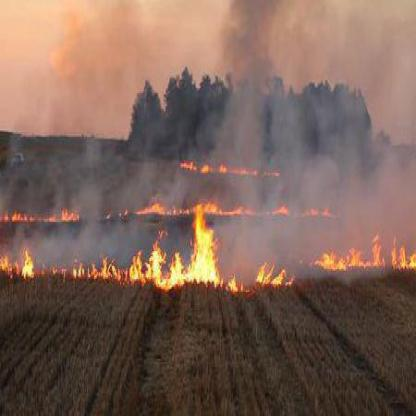fire: (1, 200, 329, 221), (140, 210, 223, 287), (1, 253, 144, 277), (173, 149, 281, 180), (318, 243, 414, 269), (231, 268, 293, 288)
